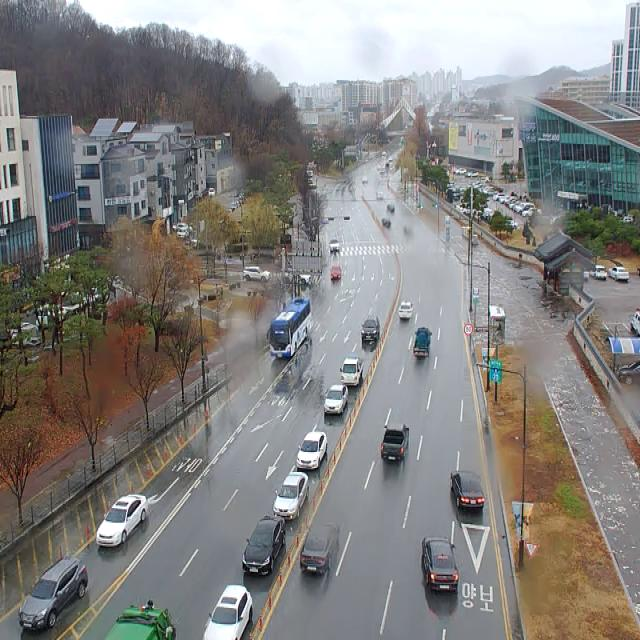Bus: (267, 298, 310, 358)
Car: (19, 558, 88, 631), (96, 493, 148, 548), (203, 585, 253, 640), (242, 516, 285, 574), (300, 522, 339, 574), (422, 537, 458, 591), (272, 472, 308, 520), (452, 470, 484, 510), (297, 432, 327, 469), (381, 424, 409, 461), (324, 385, 348, 414), (340, 358, 364, 386), (616, 361, 640, 384), (362, 316, 379, 342), (243, 266, 270, 282), (608, 267, 629, 281), (588, 266, 607, 280), (399, 302, 413, 318), (177, 226, 189, 238), (331, 266, 341, 279), (330, 239, 340, 252), (209, 187, 215, 197), (637, 268, 640, 277)
Truck: (103, 600, 175, 640), (413, 328, 432, 357), (630, 309, 640, 336)
